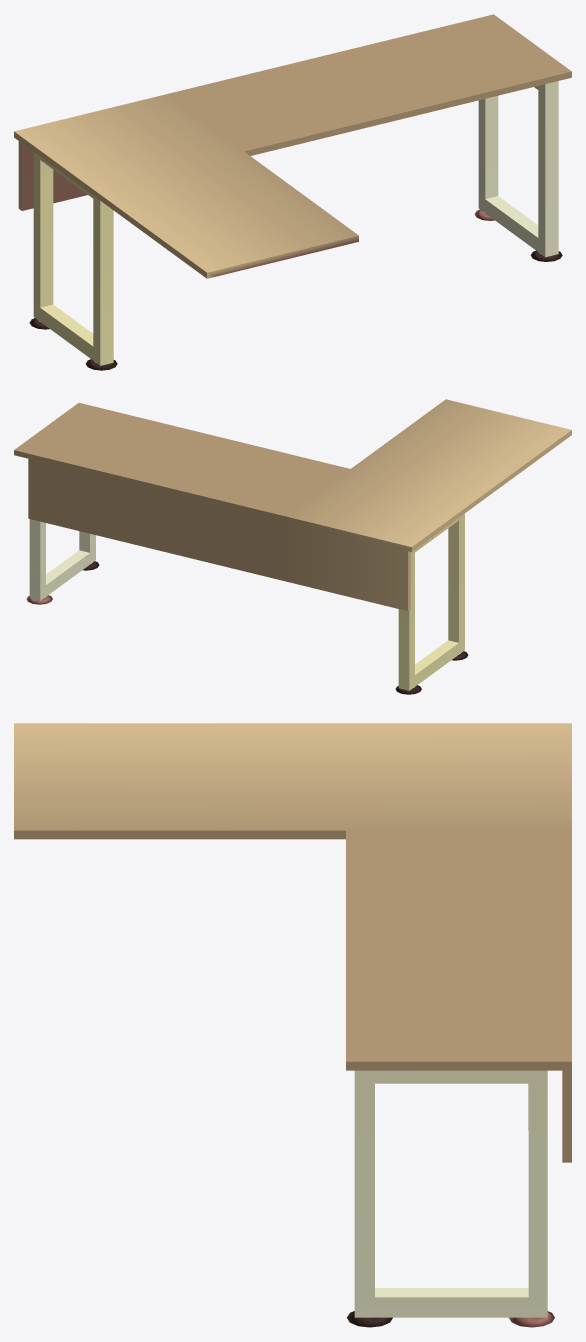
File: Escritoriol2.fbx
3 renders of one model, top to bottom at view 1: azimuth 30°, elevation 25°; view 2: azimuth 150°, elevation 25°; view 3: azimuth 270°, elevation 25°, orthographic. The views are drawn at different scales.
Parts seen in each view (by area): view 1: Escritoriol2; view 2: Escritoriol2; view 3: Escritoriol2.
Part boxes in pixels (<box>): Escritoriol2: <box>14,14,571,370</box>; Escritoriol2: <box>14,399,571,694</box>; Escritoriol2: <box>14,723,571,1327</box>.
Bounding box in the file's own units: 14.16 × 5.23 × 9.87.
1 material, 1 textured.
